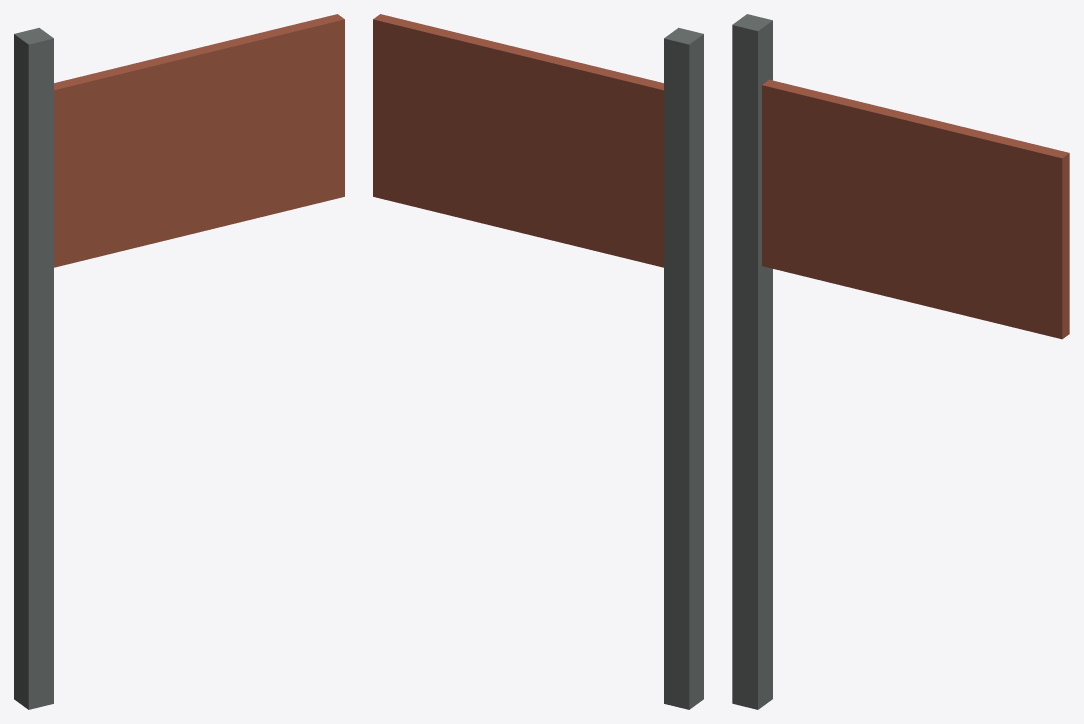
The model's file is flags.source.glb.
The picture shows the model from 3 angles, left to right: view 1: azimuth 30°, elevation 25°; view 2: azimuth 150°, elevation 25°; view 3: azimuth 330°, elevation 25°; orthographic projection. The views are drawn at different scales.
Visible parts, largest first — view 1: flags-flag-mesh, flags-pole-mesh; view 2: flags-flag-mesh, flags-pole-mesh; view 3: flags-flag-mesh, flags-pole-mesh.
Part boxes in pixels (x1=…): flags-flag-mesh: x1=54, y1=14, x2=344, y2=267; flags-pole-mesh: x1=14, y1=27, x2=53, y2=709; flags-flag-mesh: x1=373, y1=14, x2=663, y2=267; flags-pole-mesh: x1=664, y1=27, x2=703, y2=709; flags-flag-mesh: x1=762, y1=79, x2=1069, y2=339; flags-pole-mesh: x1=732, y1=14, x2=772, y2=709.
Bounding box in the file's own units: 1.51 × 3 × 0.12.
